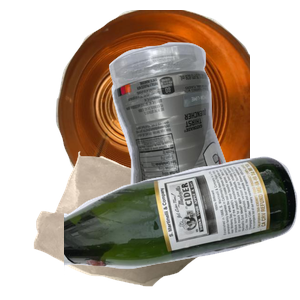glass: (64, 154, 300, 300)
metal: (53, 10, 293, 190)
plastic: (106, 40, 300, 220)
trash: (31, 149, 268, 300)
